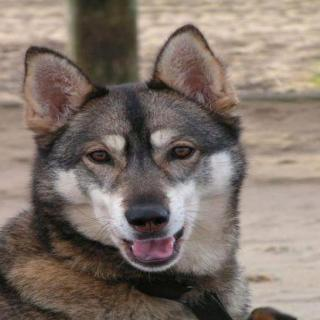dog: (14, 39, 253, 285)
nose: (123, 197, 173, 237)
